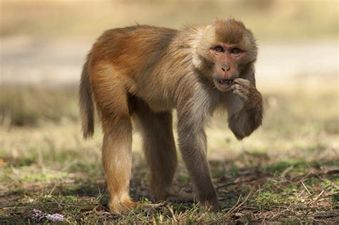monkey: (58, 8, 292, 188)
